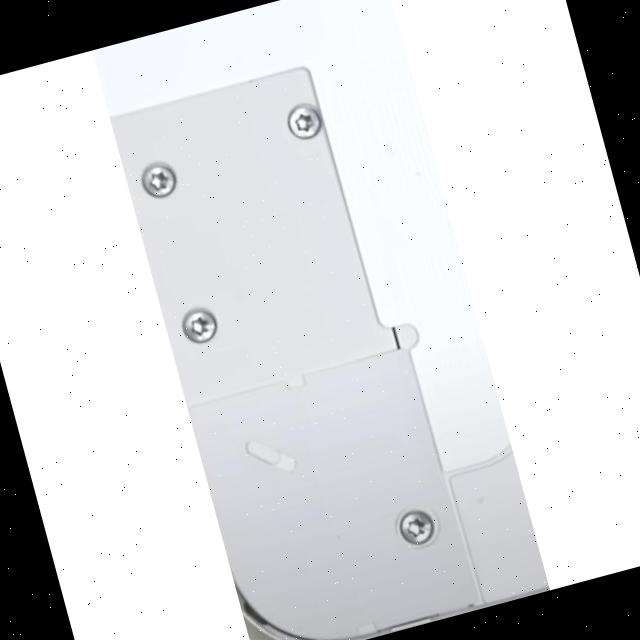Torx: (394, 504, 439, 550), (138, 157, 180, 200), (178, 303, 220, 346), (282, 100, 324, 142)
